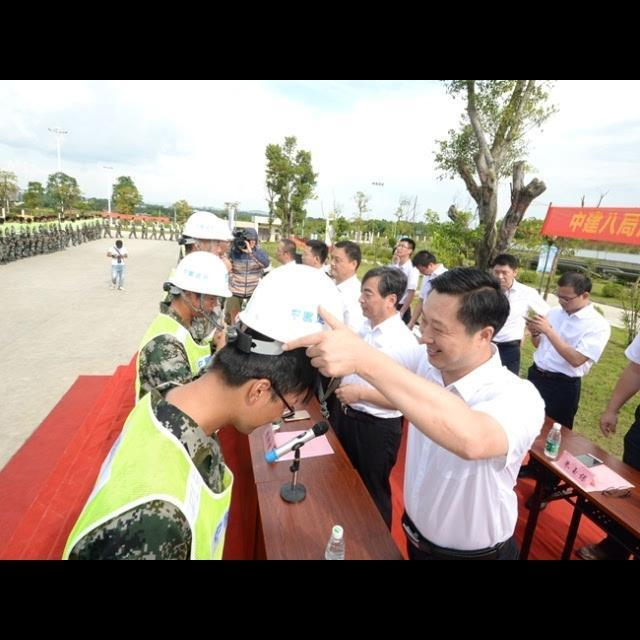Capacete: (239, 265, 342, 342), (169, 251, 231, 296), (183, 211, 232, 240)
Colete: (63, 394, 232, 558), (136, 313, 210, 400)
